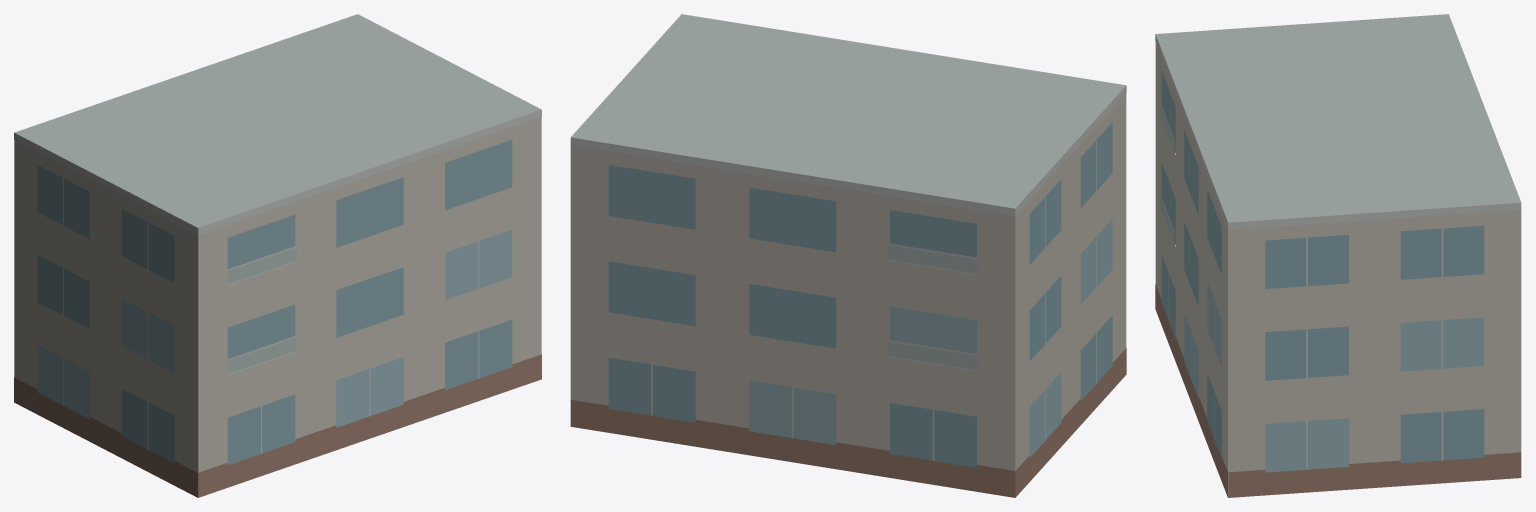
The model's file is survey-upis-32713470.glb.
The picture shows the model from 3 angles, left to right: view 1: azimuth 30°, elevation 25°; view 2: azimuth 150°, elevation 25°; view 3: azimuth 270°, elevation 25°; orthographic projection. The views are drawn at different scales.
Visible parts, largest first — view 1: survey-upis-32713470.tmp; view 2: survey-upis-32713470.tmp; view 3: survey-upis-32713470.tmp.
Boxes of the visible parts, x1=… form: survey-upis-32713470.tmp: x1=14, y1=14, x2=541, y2=497; survey-upis-32713470.tmp: x1=570, y1=14, x2=1126, y2=497; survey-upis-32713470.tmp: x1=1155, y1=14, x2=1521, y2=497.
Bounding box in the file's own units: 14.89 × 9.15 × 11.04.
